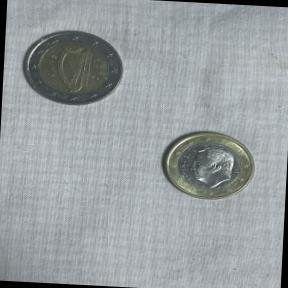coin: (16, 22, 134, 114), (156, 126, 260, 207)
